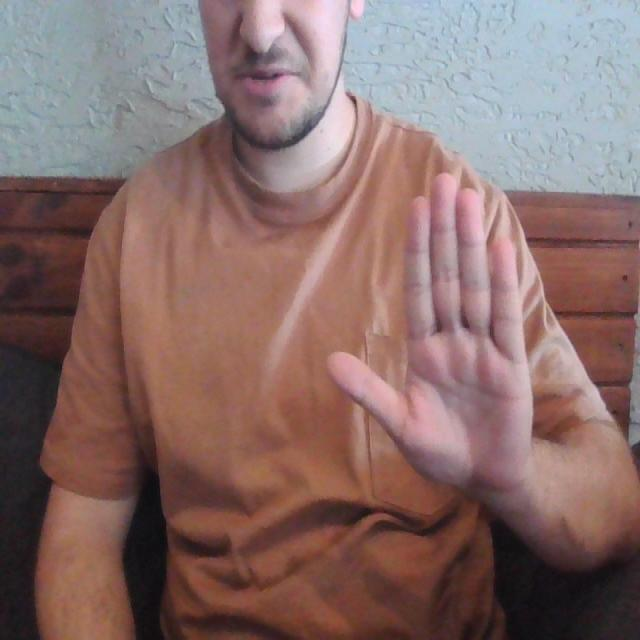Dur: (320, 157, 563, 515)
